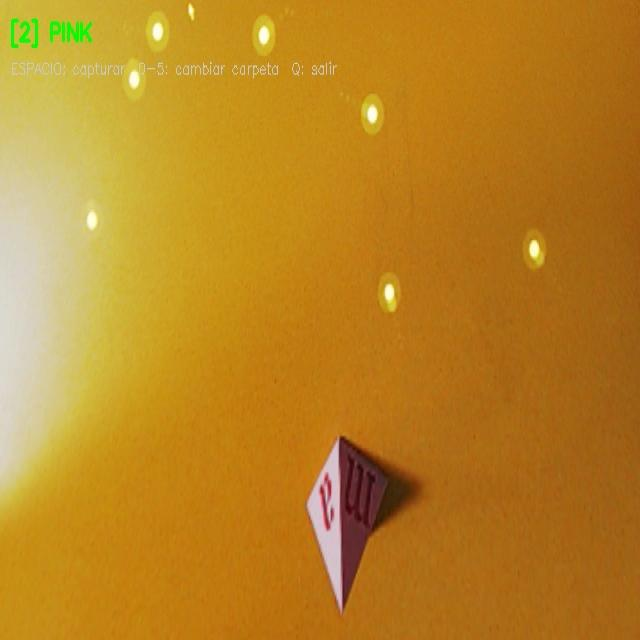pink: (300, 437, 390, 614)
